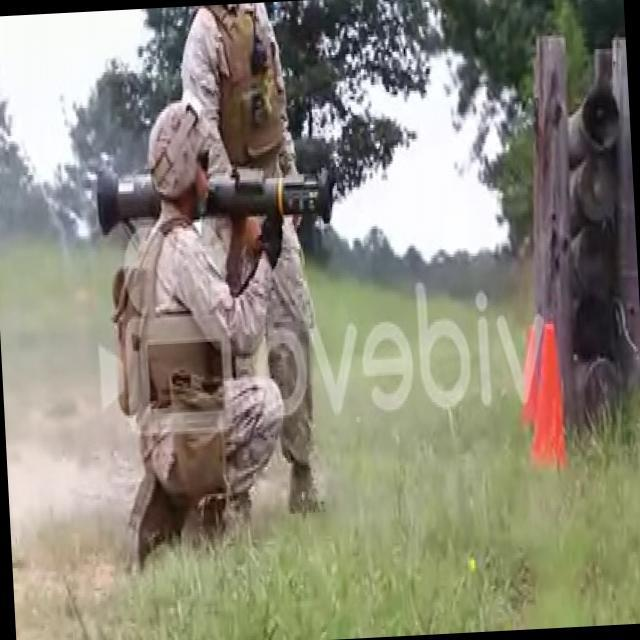rocket: (97, 162, 335, 238)
